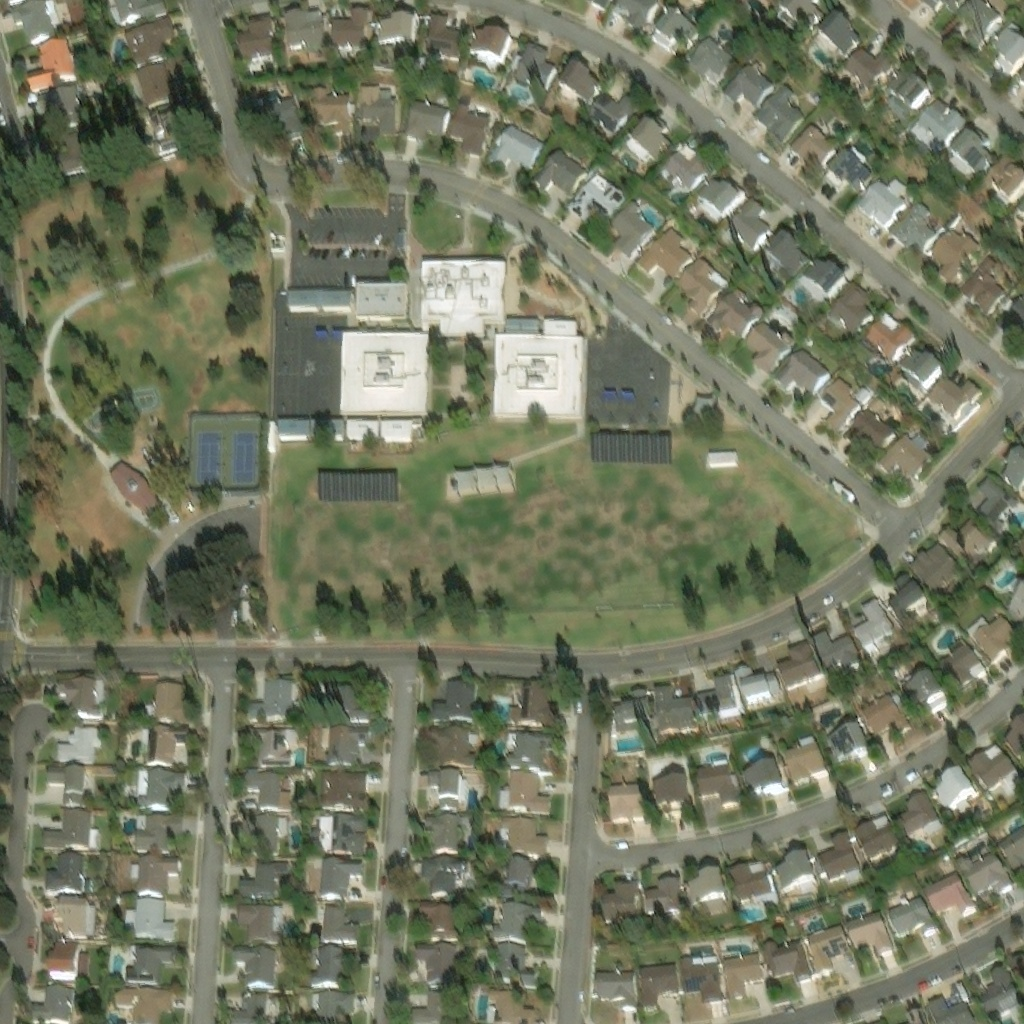0 no-damage: (340, 330, 430, 412), (495, 335, 583, 415), (421, 261, 505, 337), (817, 370, 874, 430), (675, 252, 729, 313), (483, 122, 545, 173), (912, 101, 967, 157), (566, 169, 627, 219), (753, 82, 805, 140), (955, 251, 1004, 312), (105, 456, 159, 511), (937, 517, 995, 568), (635, 223, 692, 274), (744, 316, 796, 371), (24, 35, 76, 89), (928, 224, 979, 279), (529, 144, 588, 191), (121, 15, 177, 64), (608, 197, 655, 255), (34, 80, 90, 128), (875, 428, 932, 475), (771, 342, 829, 388), (703, 289, 762, 334), (695, 669, 744, 723), (908, 541, 960, 591), (957, 848, 1013, 893), (864, 311, 914, 361), (828, 280, 874, 334), (923, 867, 977, 913), (447, 99, 491, 155), (111, 982, 171, 1023), (687, 34, 736, 84), (853, 174, 905, 221), (135, 61, 193, 103), (965, 612, 1019, 657), (845, 49, 900, 93), (8, 0, 70, 39), (887, 197, 936, 246), (968, 740, 1018, 788), (588, 91, 641, 136), (590, 433, 672, 462), (841, 403, 895, 447), (41, 805, 99, 845), (318, 471, 398, 500), (978, 961, 1020, 1016), (727, 197, 772, 248), (804, 921, 848, 973), (238, 722, 292, 764), (660, 143, 708, 190), (813, 627, 861, 674), (844, 907, 893, 953), (468, 26, 518, 71), (885, 891, 936, 935), (976, 474, 1018, 527), (858, 691, 911, 733), (783, 729, 824, 783), (513, 42, 558, 91), (788, 120, 838, 164), (311, 82, 355, 132), (929, 373, 980, 416), (678, 947, 720, 999), (148, 101, 189, 154), (776, 638, 821, 686), (652, 683, 697, 731), (260, 92, 304, 141), (500, 769, 550, 812), (722, 62, 774, 103), (636, 955, 677, 1007), (247, 672, 294, 717), (797, 256, 845, 300), (429, 725, 478, 768), (52, 673, 102, 715), (134, 764, 184, 806), (124, 894, 174, 936), (764, 229, 810, 274), (854, 812, 900, 857), (958, 0, 1002, 47), (489, 988, 548, 1023), (762, 936, 810, 979), (51, 126, 93, 175), (320, 724, 374, 762), (818, 826, 859, 876), (556, 59, 601, 104), (823, 147, 871, 189), (937, 643, 979, 691), (499, 814, 547, 856), (721, 947, 762, 996), (306, 942, 356, 982), (123, 939, 174, 978), (886, 69, 931, 113), (401, 96, 448, 138), (851, 597, 893, 644), (236, 11, 277, 59), (421, 858, 470, 898), (505, 728, 554, 768), (318, 811, 367, 851), (327, 680, 377, 719), (931, 765, 976, 808), (508, 680, 553, 723), (494, 902, 540, 944), (611, 685, 651, 733), (360, 81, 398, 131), (236, 764, 280, 807), (897, 788, 939, 833), (630, 112, 672, 157), (237, 856, 288, 893), (818, 13, 859, 59), (696, 761, 739, 804), (423, 813, 469, 853), (356, 283, 407, 319), (240, 811, 287, 850), (319, 767, 366, 806), (54, 721, 102, 759), (900, 344, 943, 386), (236, 899, 280, 940), (331, 6, 375, 47), (987, 152, 1023, 202), (953, 130, 993, 175), (887, 571, 927, 616), (694, 177, 741, 215), (44, 760, 86, 802), (494, 946, 537, 987), (284, 7, 328, 47), (602, 876, 641, 921), (431, 680, 476, 719), (654, 7, 701, 44), (733, 664, 780, 701), (827, 720, 869, 761), (232, 941, 273, 983), (135, 852, 178, 892), (415, 902, 460, 940), (47, 936, 88, 977), (319, 855, 361, 895), (415, 944, 458, 983), (728, 861, 772, 899), (898, 667, 944, 703), (774, 848, 815, 888), (145, 722, 187, 761), (426, 14, 464, 57), (143, 679, 186, 717), (28, 982, 72, 1019), (318, 898, 357, 939), (54, 894, 95, 933), (131, 810, 173, 848), (595, 968, 635, 1007), (641, 874, 681, 913), (286, 284, 353, 307), (740, 757, 784, 792), (991, 25, 1023, 73), (501, 858, 539, 898), (42, 849, 82, 887), (310, 985, 356, 1018), (684, 865, 725, 902), (607, 782, 650, 817), (925, 995, 975, 1023), (227, 988, 267, 1023), (996, 821, 1023, 872), (427, 767, 465, 803), (411, 988, 449, 1023), (652, 773, 692, 806), (377, 13, 418, 44), (1000, 444, 1023, 499), (784, 0, 829, 27), (993, 290, 1023, 330), (613, 0, 656, 27), (113, 0, 166, 21), (1002, 713, 1023, 766), (771, 293, 803, 323), (1005, 584, 1023, 623), (895, 1004, 930, 1023), (379, 419, 413, 438), (346, 418, 380, 437), (277, 417, 311, 436), (310, 417, 342, 437), (505, 318, 539, 335), (544, 318, 577, 335), (1009, 951, 1023, 990), (692, 395, 717, 416), (922, 0, 965, 12), (705, 446, 736, 461), (588, 0, 609, 8), (763, 0, 780, 9)
